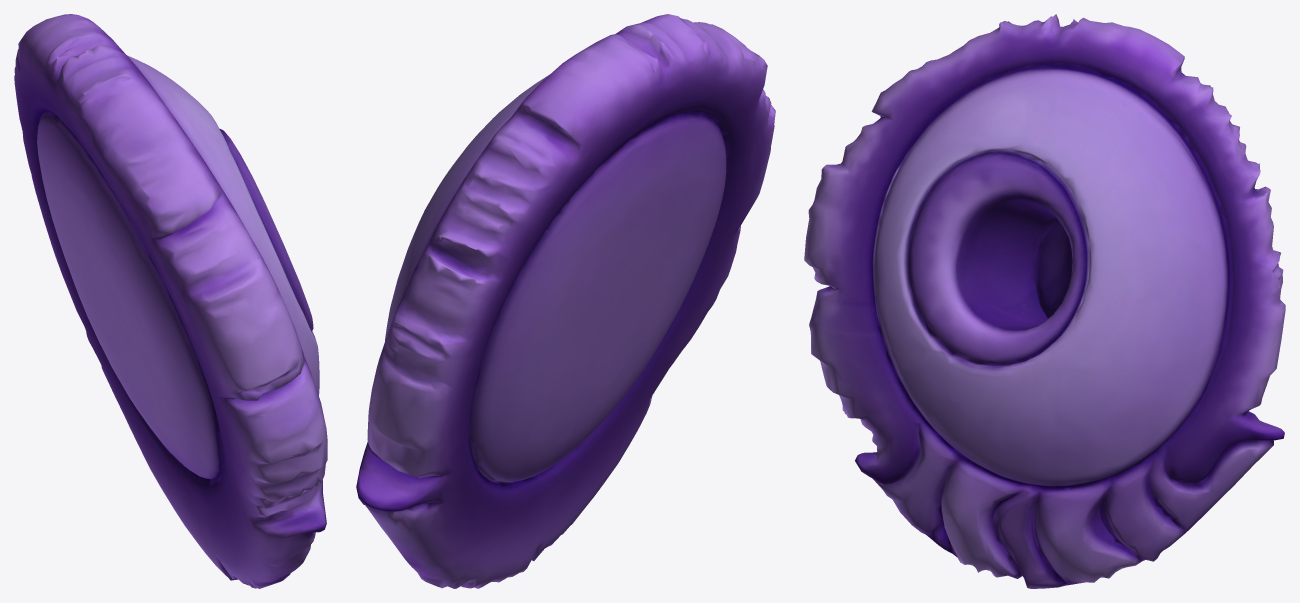
3 renders of one model, left to right at view 1: azimuth 30°, elevation 25°; view 2: azimuth 150°, elevation 25°; view 3: azimuth 270°, elevation 25°, orthographic. The views are drawn at different scales.
Parts seen in each view (by area): view 1: tripo_node_b18e0d97-e4e4-4931-ae50-0b9929f3cba0; view 2: tripo_node_b18e0d97-e4e4-4931-ae50-0b9929f3cba0; view 3: tripo_node_b18e0d97-e4e4-4931-ae50-0b9929f3cba0.
Part boxes in pixels (box(x1,y1,x2,y2)): tripo_node_b18e0d97-e4e4-4931-ae50-0b9929f3cba0: box(14, 14, 327, 588); tripo_node_b18e0d97-e4e4-4931-ae50-0b9929f3cba0: box(356, 14, 775, 588); tripo_node_b18e0d97-e4e4-4931-ae50-0b9929f3cba0: box(804, 14, 1285, 588).
Bounding box in the file's own units: 0.4436 × 1 × 0.8566.
1 material, 1 textured.
